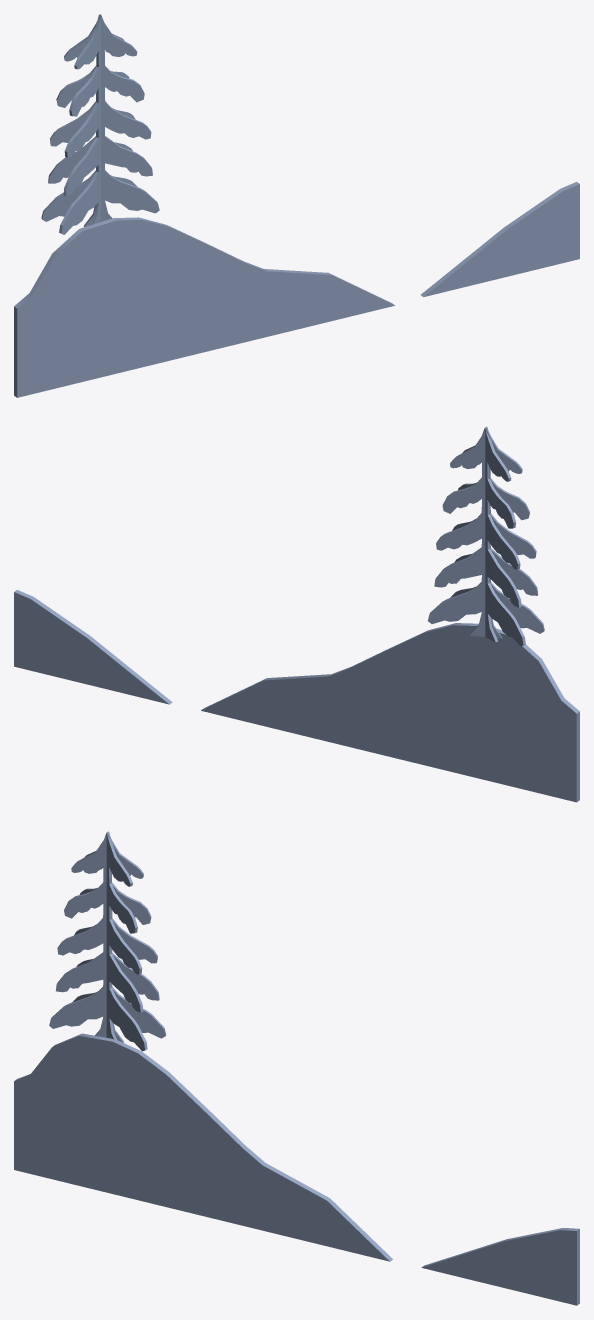
File: frame_0114.glb
The picture shows the model from 3 angles, top to bottom: view 1: azimuth 30°, elevation 25°; view 2: azimuth 150°, elevation 25°; view 3: azimuth 330°, elevation 25°; orthographic projection.
Parts seen in each view (by area): view 1: export_trees_001.002; view 2: export_trees_001.002; view 3: export_trees_001.002.
Part boxes in pixels (x1,y1,x2,y2): export_trees_001.002: (14, 14, 579, 397); export_trees_001.002: (14, 426, 579, 802); export_trees_001.002: (14, 831, 579, 1305).
Size of the model in its own units: 0.4327 by 0.2619 by 0.0288.
